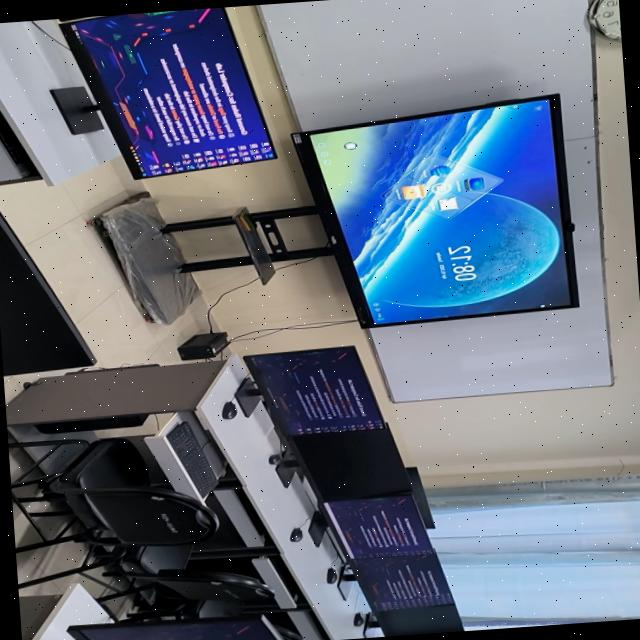Chair: (8, 437, 218, 551), (18, 544, 274, 602), (143, 599, 242, 618)
Cpu: (35, 412, 149, 433)
Digital board: (92, 93, 579, 327)
Keyboard: (167, 420, 218, 495), (0, 111, 33, 168)
Monitor: (50, 6, 276, 178), (0, 211, 96, 375), (235, 345, 385, 434), (277, 426, 412, 501), (308, 494, 432, 558), (339, 551, 453, 609), (67, 616, 284, 640), (364, 601, 464, 638), (405, 465, 435, 527)
Mouse: (222, 400, 237, 418), (290, 527, 303, 541), (327, 567, 338, 583), (269, 452, 282, 463), (354, 611, 363, 625)
